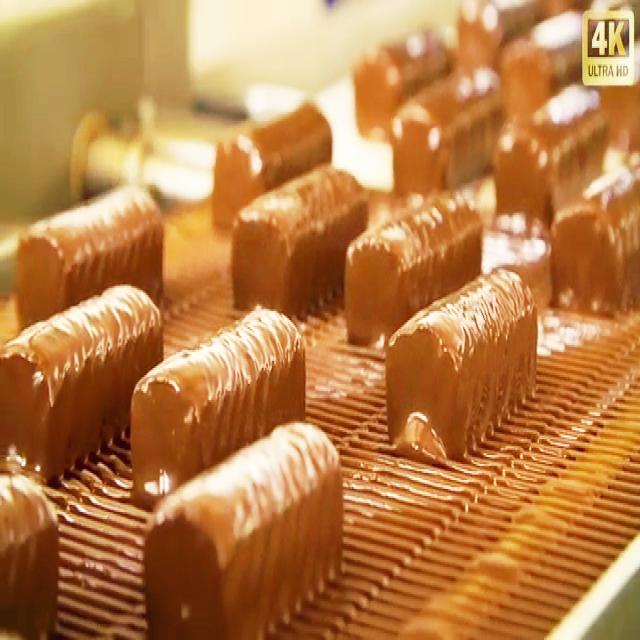Choco: (142, 416, 344, 635), (129, 300, 307, 502), (1, 279, 163, 480), (383, 261, 539, 466), (343, 185, 483, 343), (15, 181, 165, 327), (229, 158, 368, 315), (211, 95, 333, 227), (544, 182, 640, 334), (344, 24, 446, 142), (499, 102, 615, 198), (386, 86, 507, 176)
